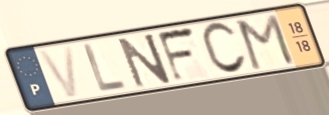C: (199, 20, 250, 77)
F: (154, 24, 198, 85)
L: (81, 41, 129, 94)
M: (234, 11, 297, 72)
N: (115, 31, 175, 91)
V: (35, 43, 82, 101)
